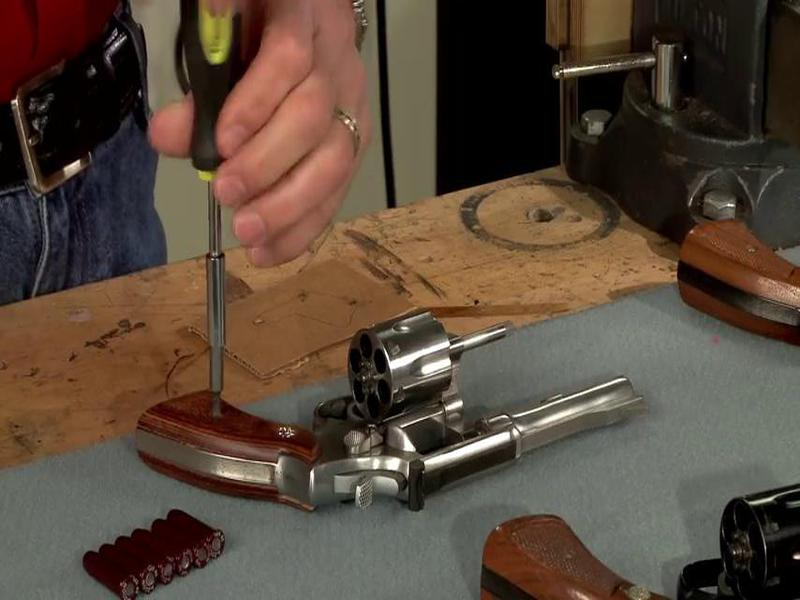Revolver: (138, 310, 656, 513)
